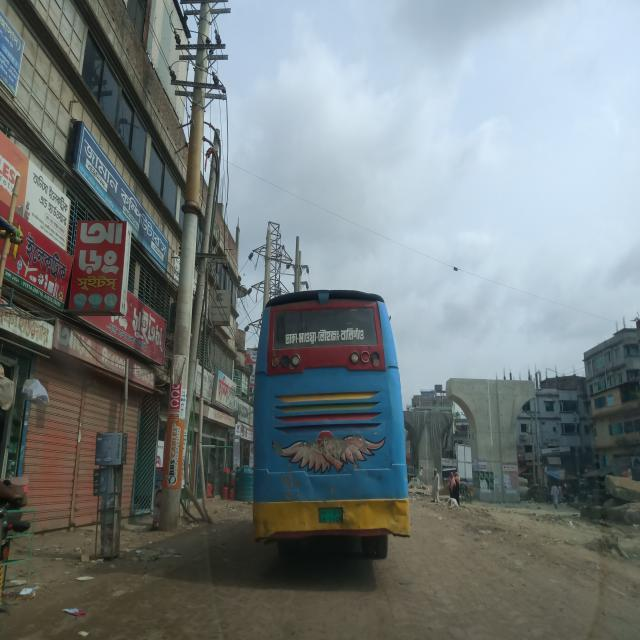bus: (252, 289, 410, 560)
